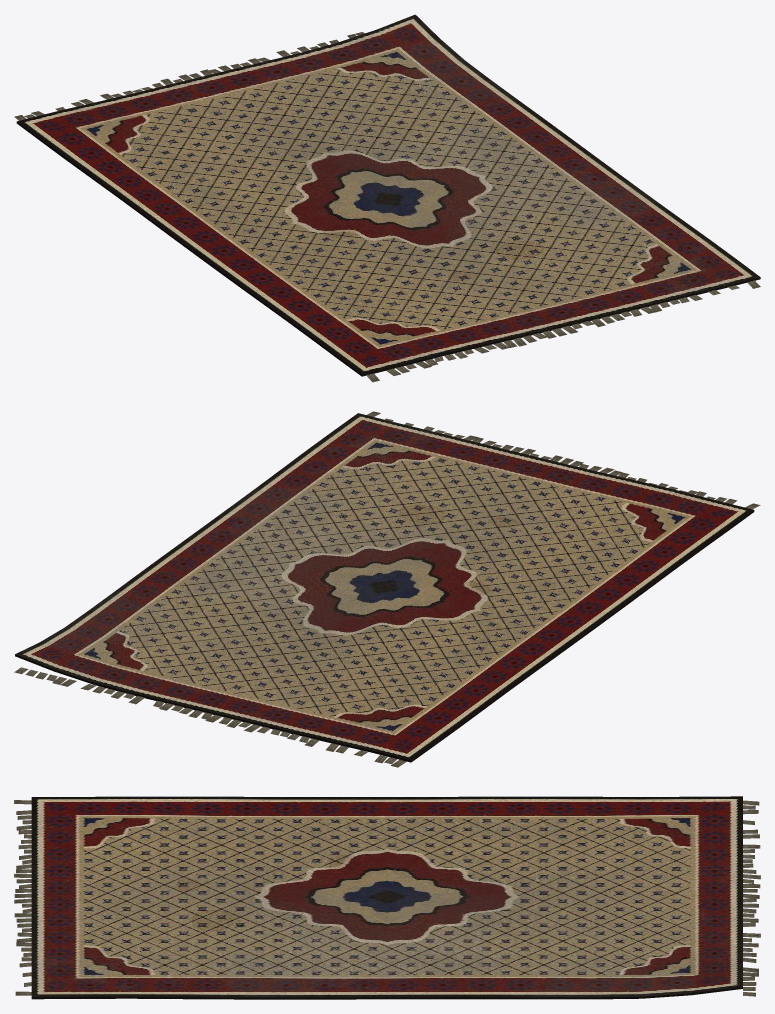
File: carpet_floor_beige_lod1_web.glb
3 views of the same model, one above another, from view 1: azimuth 30°, elevation 25°; view 2: azimuth 150°, elevation 25°; view 3: azimuth 270°, elevation 25° (orthographic). The views are drawn at different scales.
Visible parts, largest first — view 1: CarpetFloorBeige_Body; view 2: CarpetFloorBeige_Body; view 3: CarpetFloorBeige_Body.
Boxes of the visible parts, bbox=[...] form: CarpetFloorBeige_Body: bbox=[14, 14, 760, 382]; CarpetFloorBeige_Body: bbox=[14, 411, 760, 767]; CarpetFloorBeige_Body: bbox=[14, 796, 760, 999].
Size of the model in its own units: 2 by 0.06 by 3.15.
Materials: 1 (1 with a texture image).
